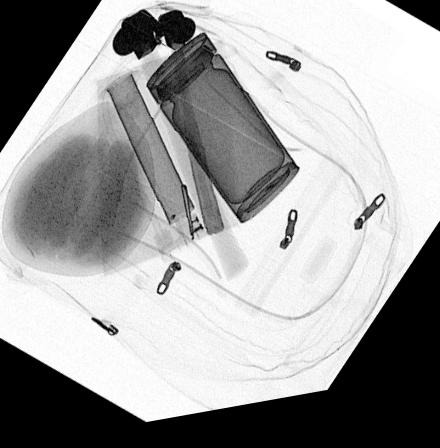Hammer: (111, 12, 248, 292), (152, 15, 224, 243)
